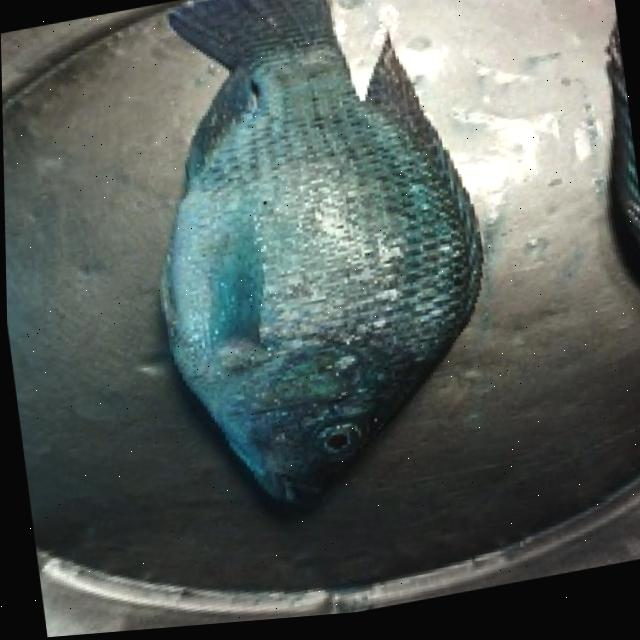Fresh: (99, 25, 490, 553)
